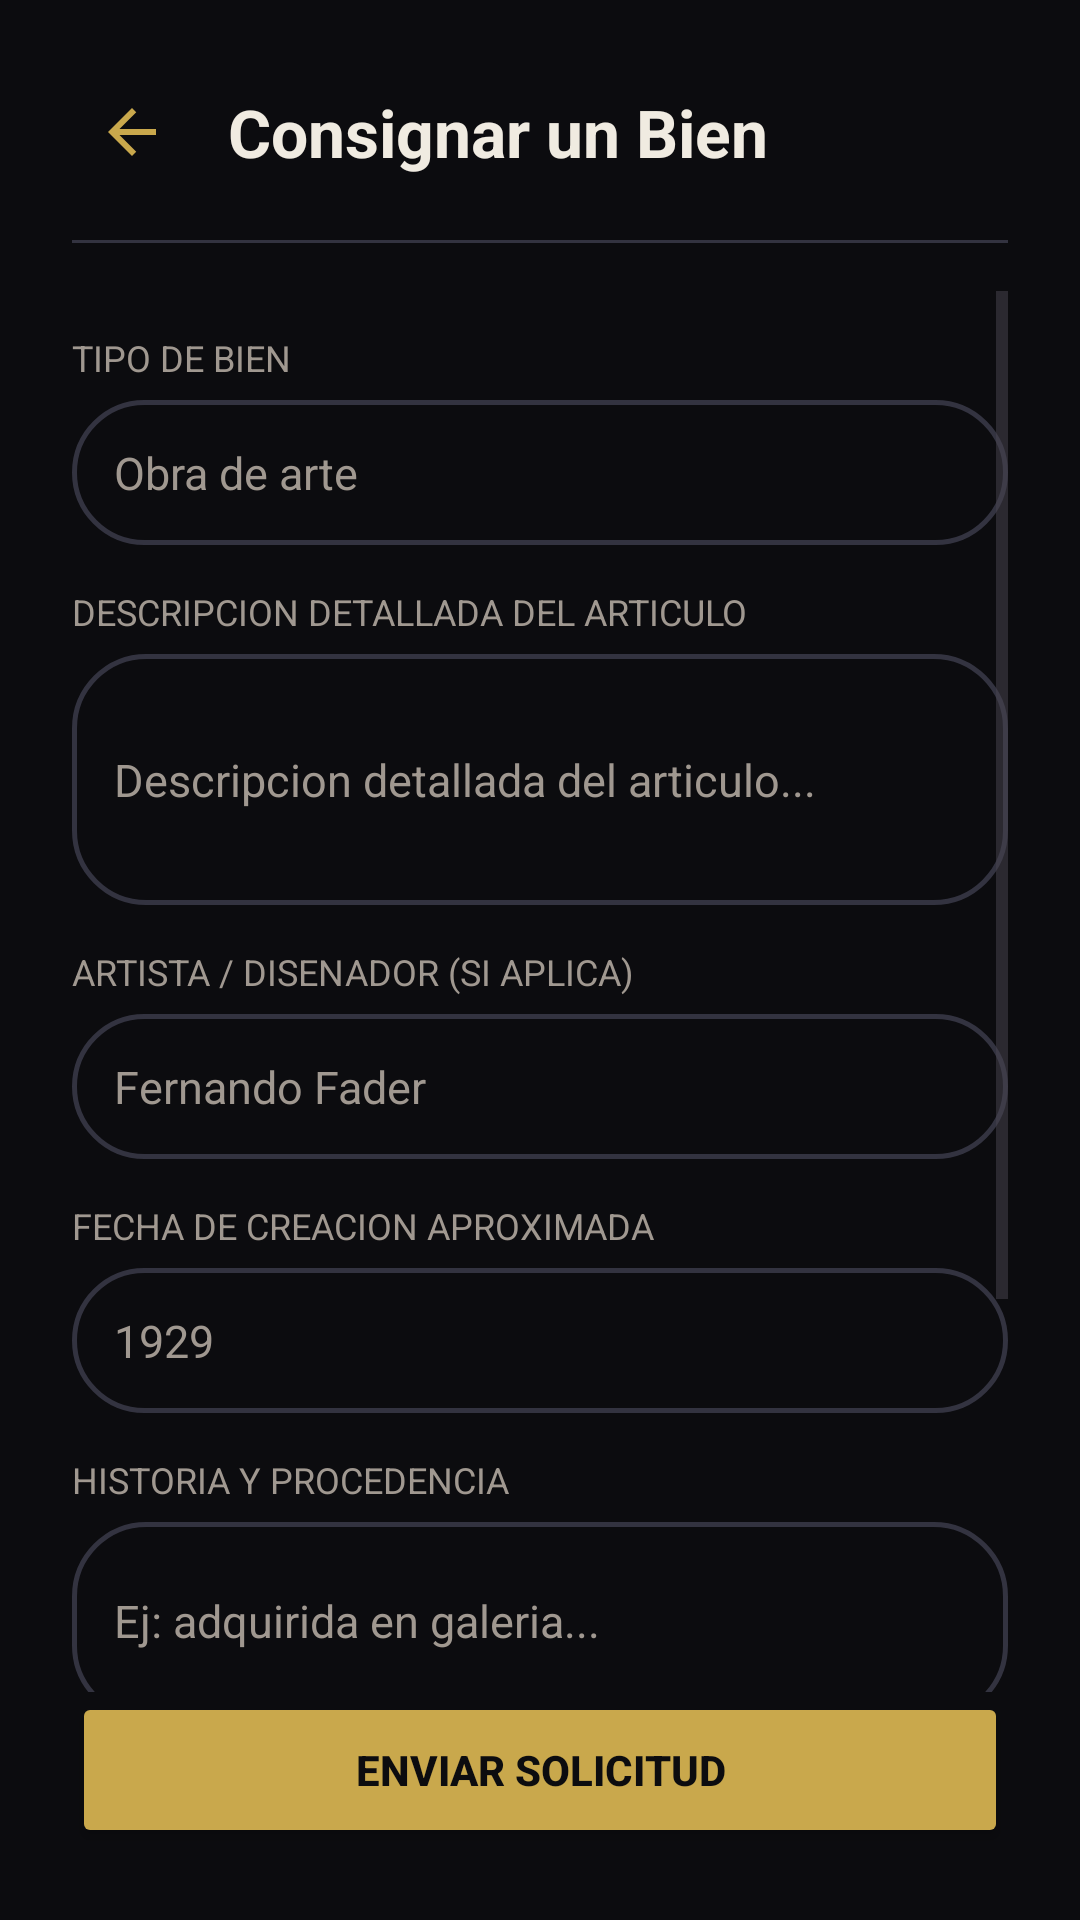

Where to tap for icons on this 1080w x 1920h app screen, as [x,y]:
arrow back: [132,132]
